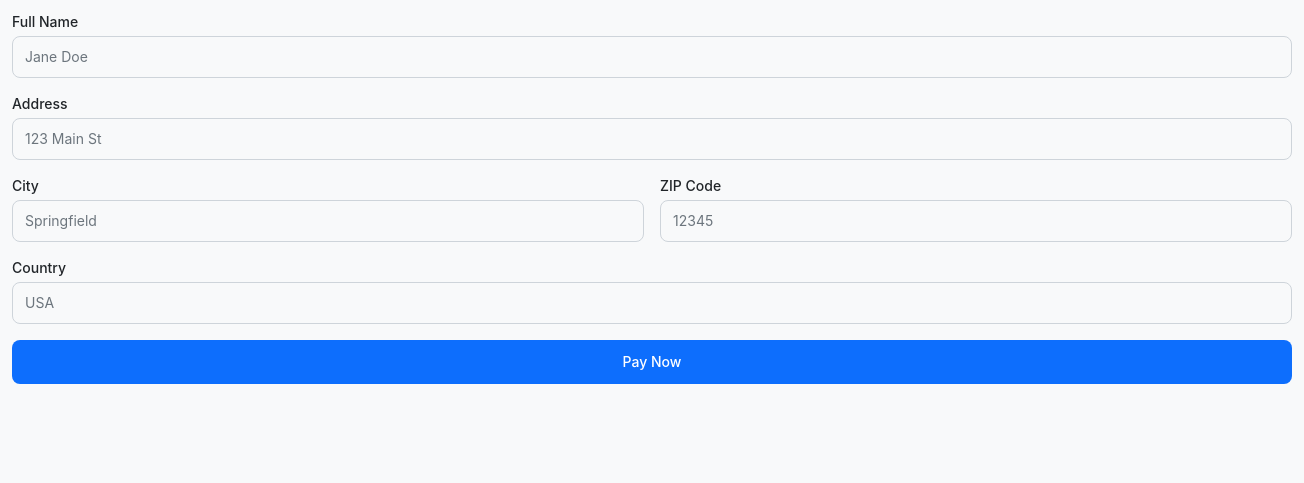
Test: CheckoutForm › clears error for a field when the user starts typing
The width and height of the screenshot is (1304, 483).
Click the button "Pay Now".
click(652, 362)  # box [12,340,1292,384]
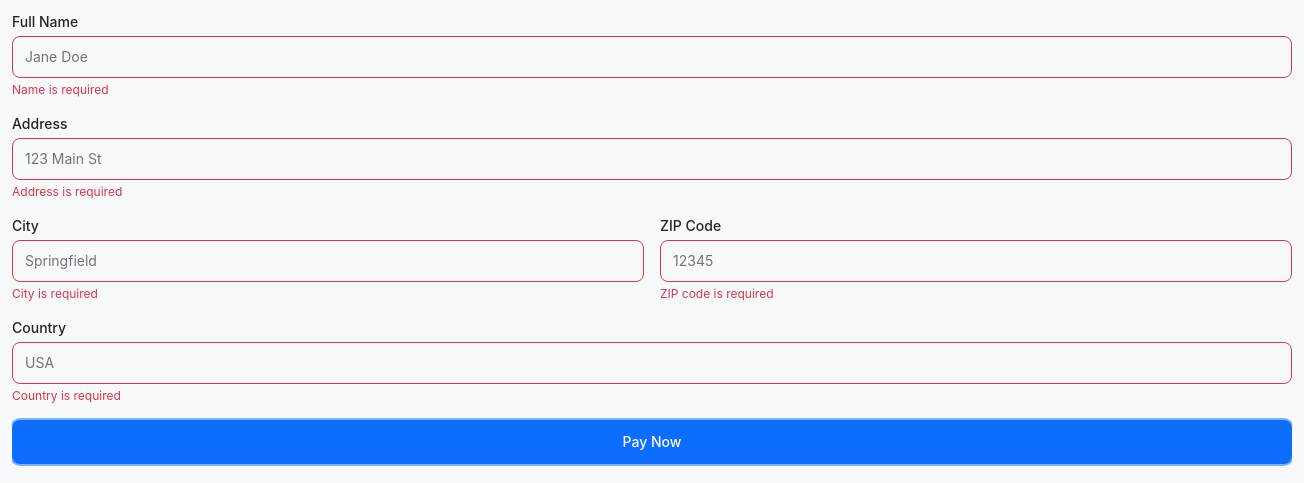
Expected: the text "Name is required" is shown, [12,82,109,97]
Type "J" into the field labelled "Full Name".
click(652, 57); type("J")  # box [12,36,1292,78]
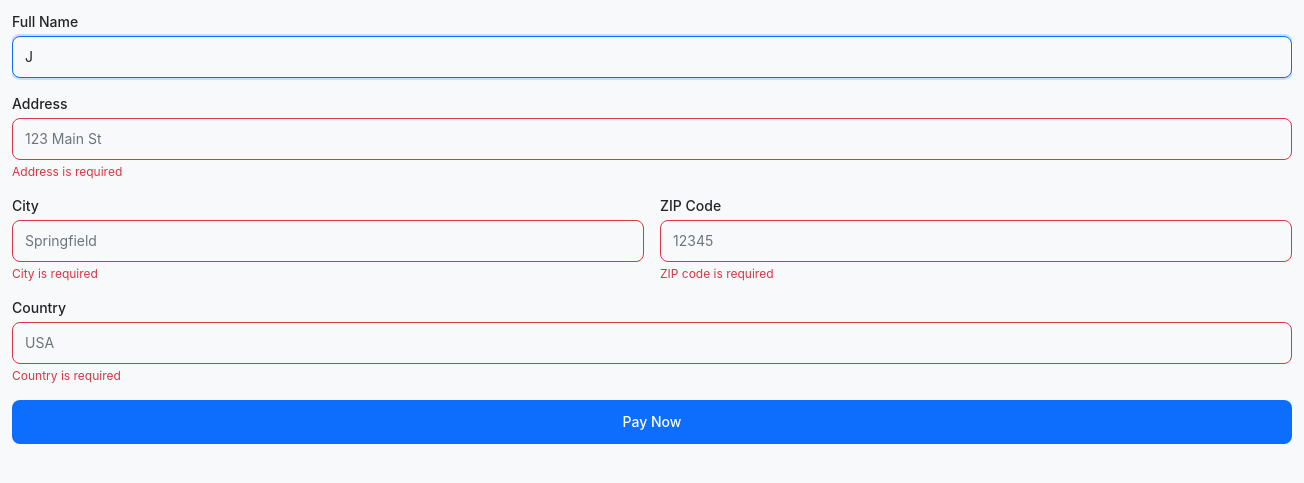
Expected: the text "Name is required" is gone
